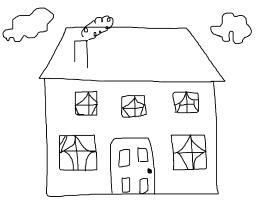closed_window: (59, 133, 97, 170), (171, 134, 207, 170), (173, 92, 199, 115), (120, 94, 146, 117), (75, 90, 97, 116)
clouds: (1, 5, 55, 43), (208, 11, 252, 45)
door: (106, 137, 159, 199)
roof: (39, 28, 226, 82)
smoking_chimney: (71, 12, 119, 70)
wall: (40, 75, 221, 198)
